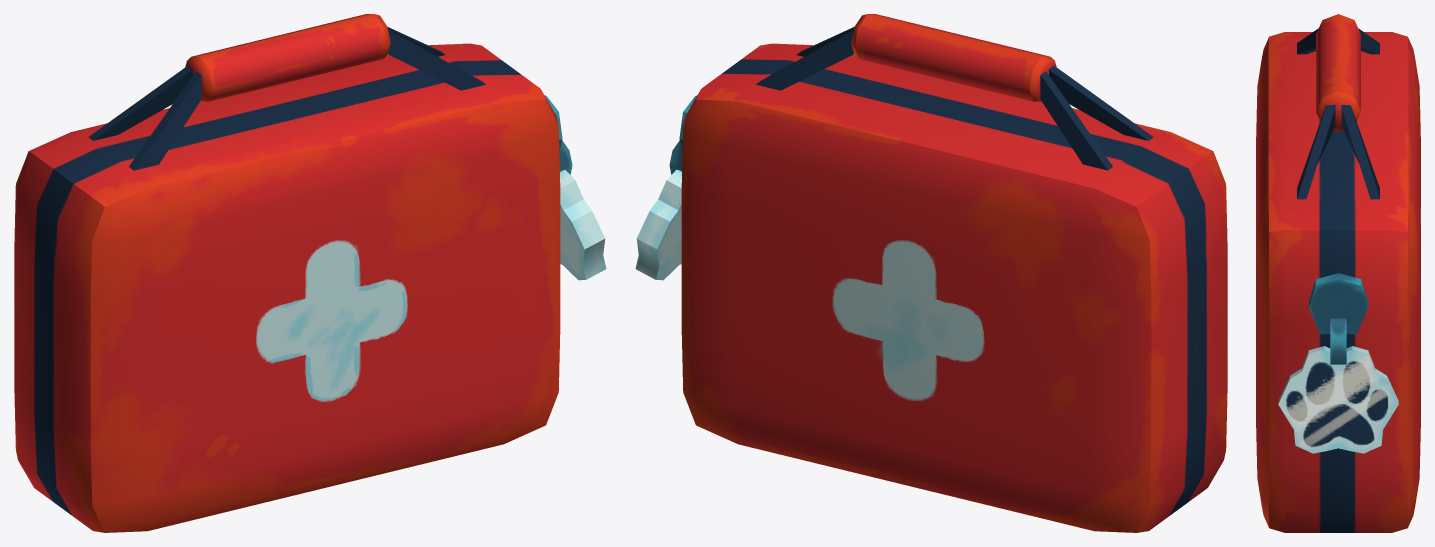
The model's file is medkit.fbx.
3 renders of one model, left to right at view 1: azimuth 30°, elevation 25°; view 2: azimuth 150°, elevation 25°; view 3: azimuth 270°, elevation 25°, orthographic. The views are drawn at different scales.
Visible parts, largest first — view 1: Cube, Cylinder.001, Plane, Cube.002; view 2: Cube, Cylinder.001, Plane, Cube.002; view 3: Cube, Cube.002, Cylinder.001, Plane, Cube.001, Cube.003.
Boxes of the visible parts, box(x1,y1,x2,y2) form: Cube: box(14, 43, 560, 532); Cylinder.001: box(185, 14, 390, 101); Plane: box(88, 27, 485, 170); Cube.002: box(560, 169, 606, 280); Cube: box(681, 43, 1227, 532); Cylinder.001: box(851, 14, 1056, 101); Plane: box(756, 27, 1153, 170); Cube.002: box(635, 169, 681, 280); Cube: box(1256, 32, 1420, 532); Cube.002: box(1278, 346, 1398, 453); Cylinder.001: box(1316, 14, 1360, 132); Plane: box(1297, 28, 1379, 199); Cube.001: box(1309, 273, 1367, 334); Cube.003: box(1330, 318, 1346, 364).
Size of the model in its own units: 65.85 by 50.1 by 19.14.
